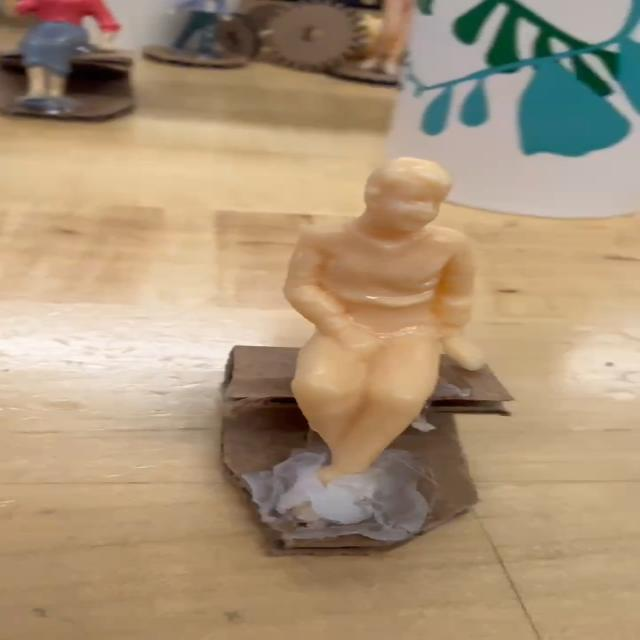Unauthorized: (174, 152, 522, 532)
